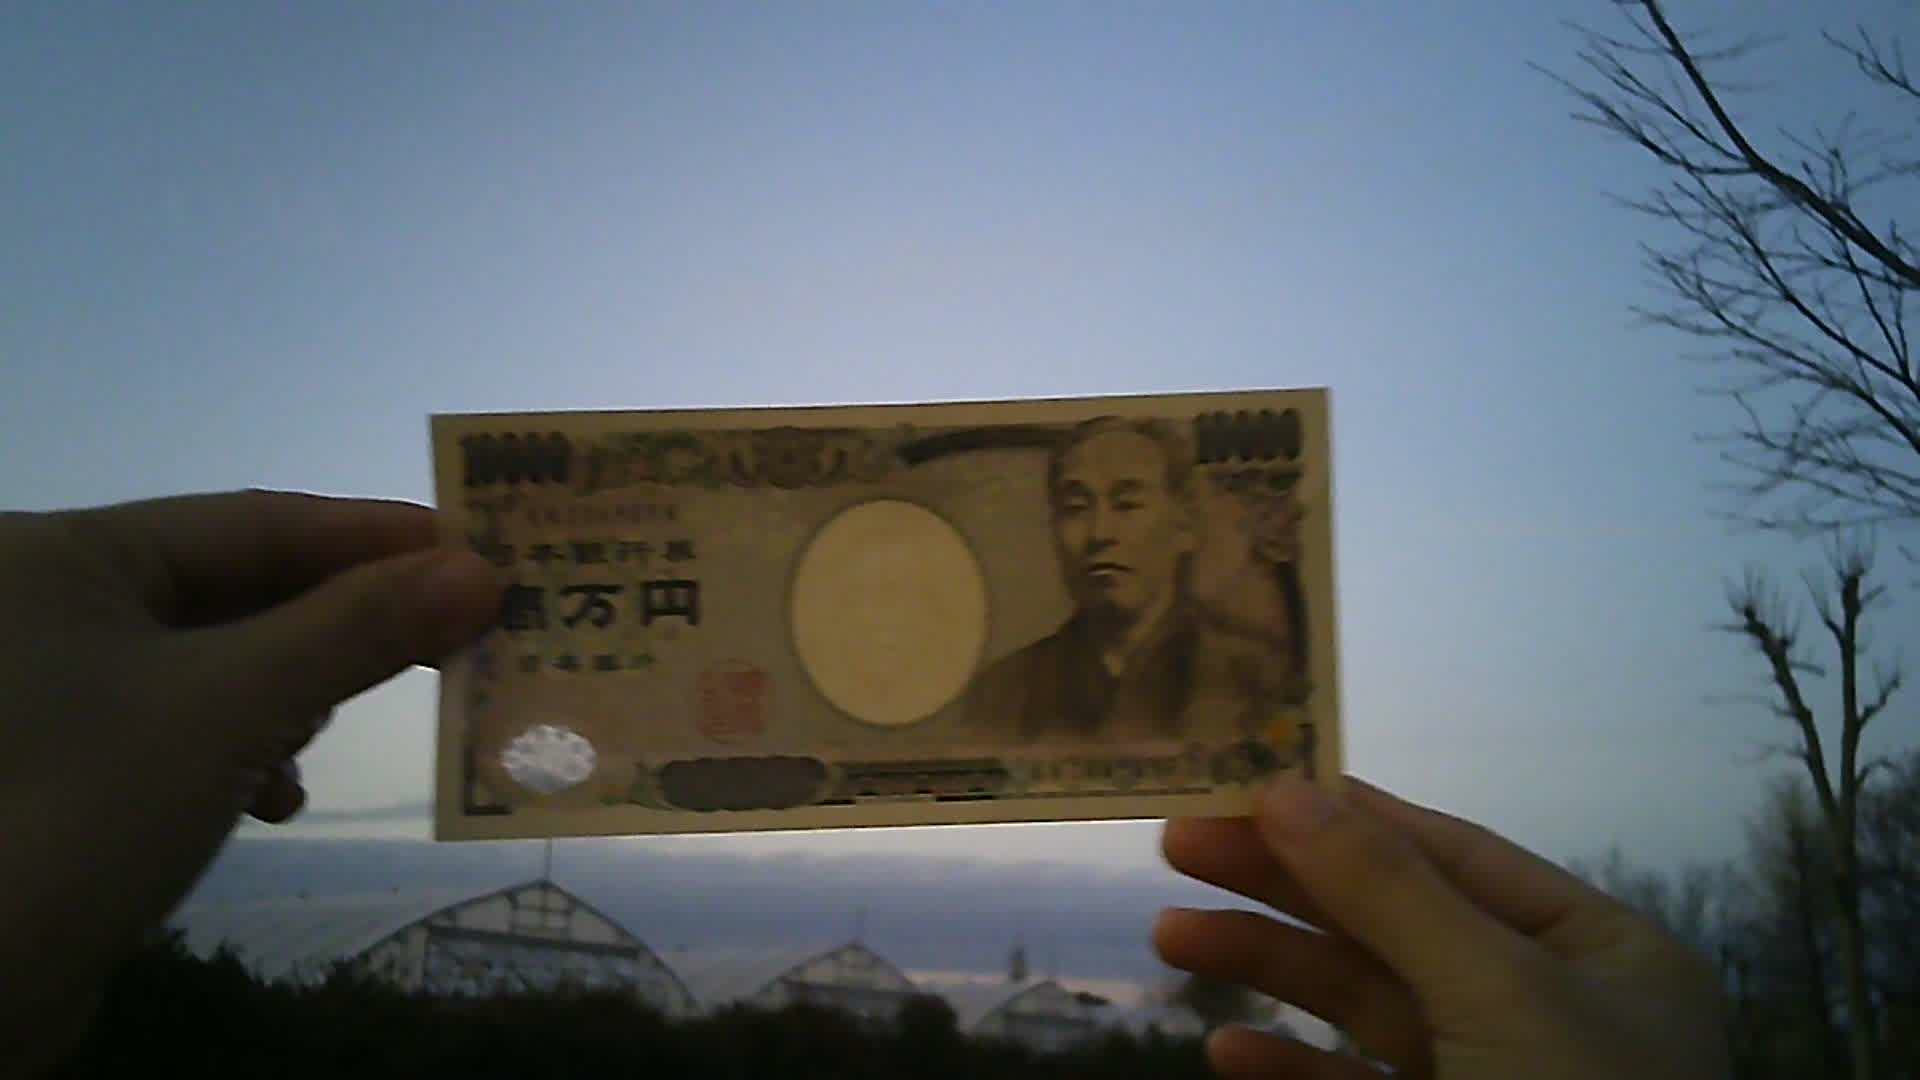10,000 Yen: (415, 394, 1365, 833)
